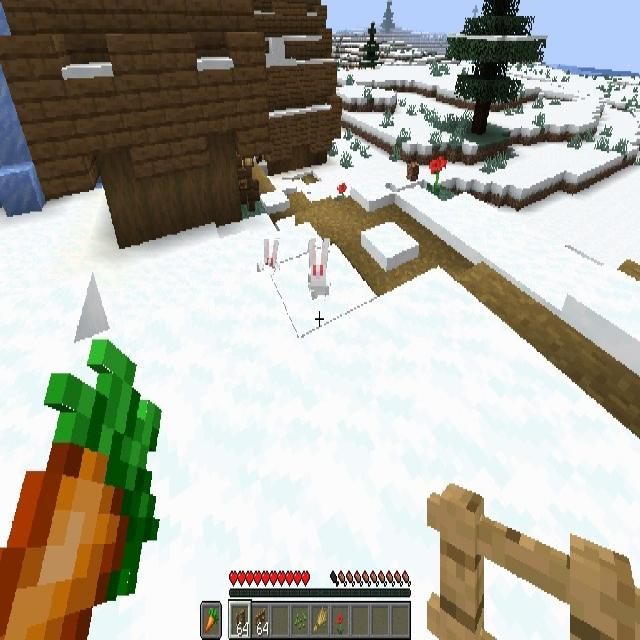rabbit: (308, 242, 330, 300), (264, 239, 280, 275)
